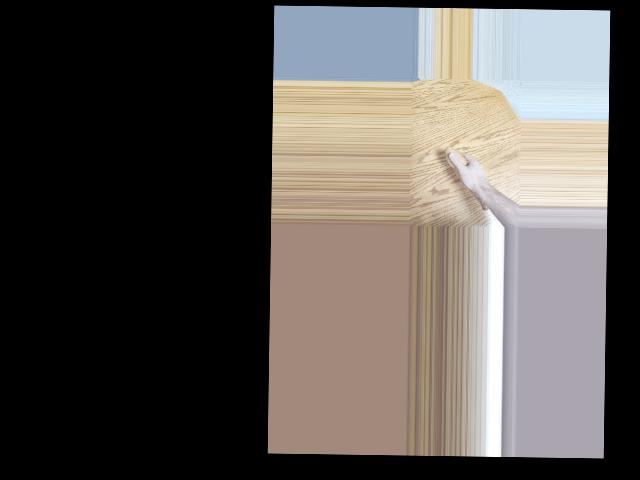sweet_potato: (443, 146, 490, 212)
